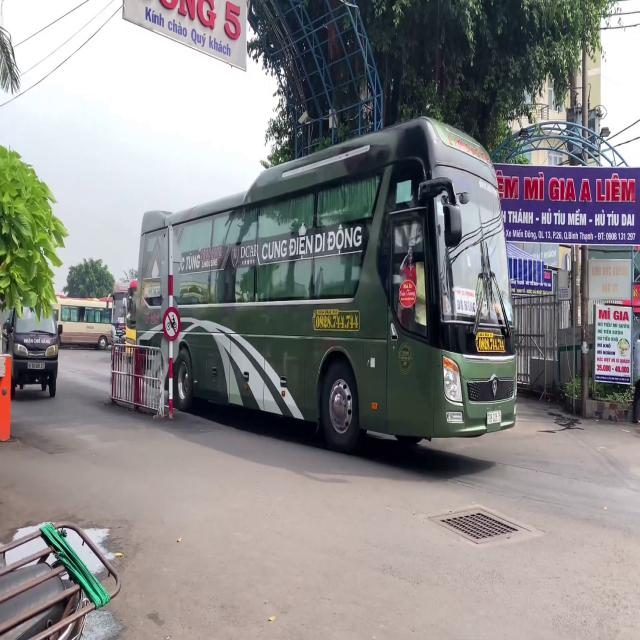bien_trang: (486, 410, 502, 423), (27, 360, 46, 370)
